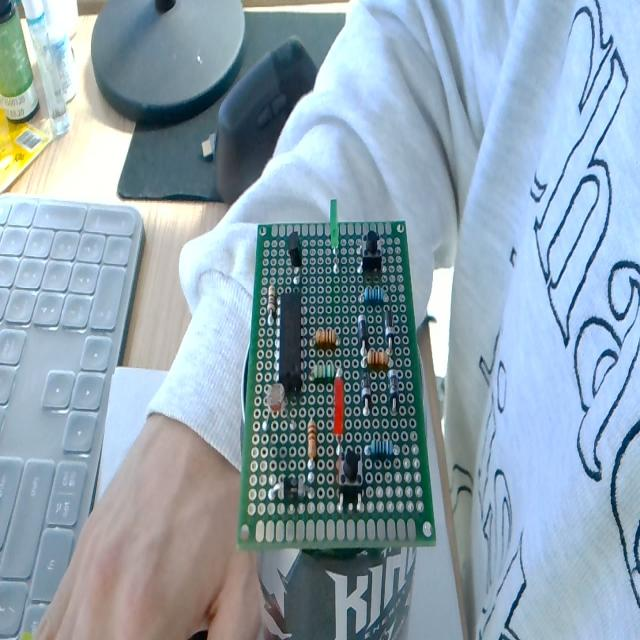IC: (278, 292, 302, 395)
cds: (259, 380, 291, 429)
diode: (272, 470, 312, 504), (388, 371, 399, 414), (358, 314, 368, 357), (384, 308, 394, 350), (360, 376, 370, 417)
led: (332, 376, 347, 452), (330, 199, 340, 271)
resistor: (365, 438, 396, 463), (312, 356, 339, 382), (366, 349, 389, 372), (314, 326, 339, 347), (307, 417, 318, 464), (363, 283, 384, 305), (267, 284, 277, 323)
switch: (337, 446, 364, 512), (359, 233, 383, 274)
transistor: (285, 229, 305, 284)
